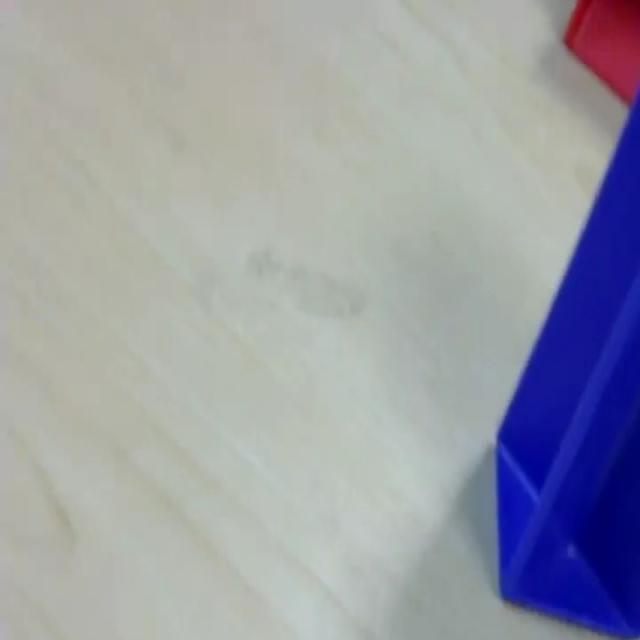blue_block: (494, 84, 638, 635)
